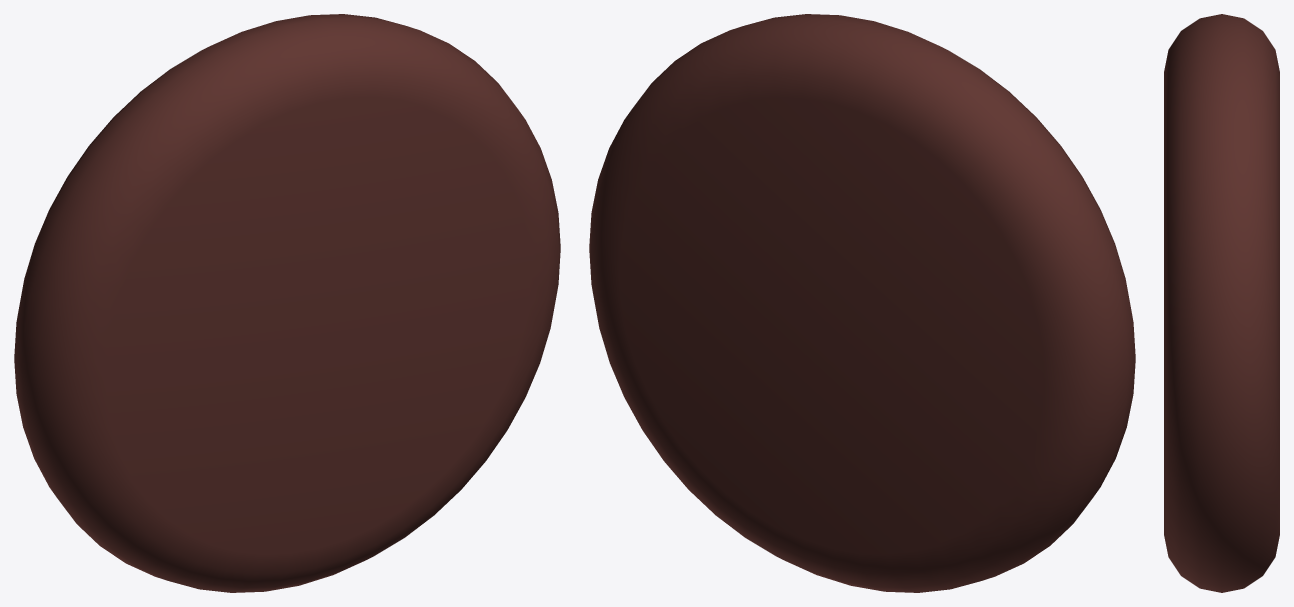
The model's file is Planet_Filled.fbx.
The picture shows the model from 3 angles, left to right: view 1: azimuth 30°, elevation 25°; view 2: azimuth 150°, elevation 25°; view 3: azimuth 270°, elevation 25°; orthographic projection. The views are drawn at different scales.
Parts seen in each view (by area): view 1: ForestPlanet_Ground.000; view 2: ForestPlanet_Ground.000; view 3: ForestPlanet_Ground.000.
Part boxes in pixels (x1,y1,x2,y2): ForestPlanet_Ground.000: (14, 14, 560, 592); ForestPlanet_Ground.000: (589, 14, 1135, 592); ForestPlanet_Ground.000: (1164, 14, 1279, 592).
Size of the model in its own units: 250 by 250 by 50.
